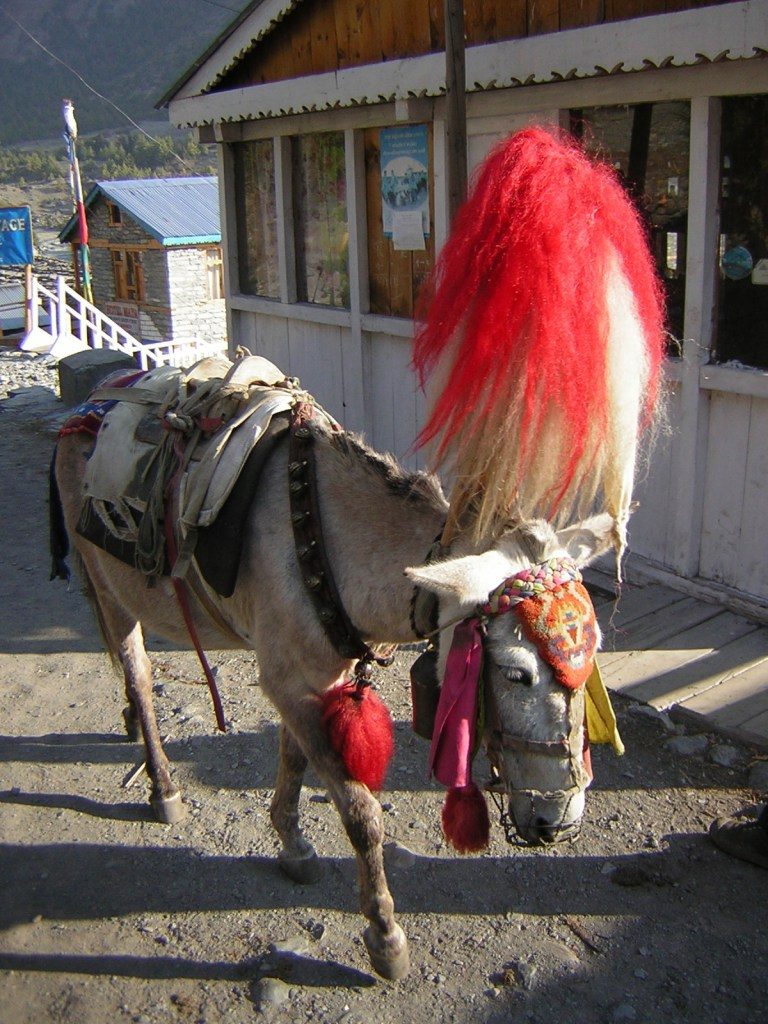equine: (1, 328, 689, 991)
